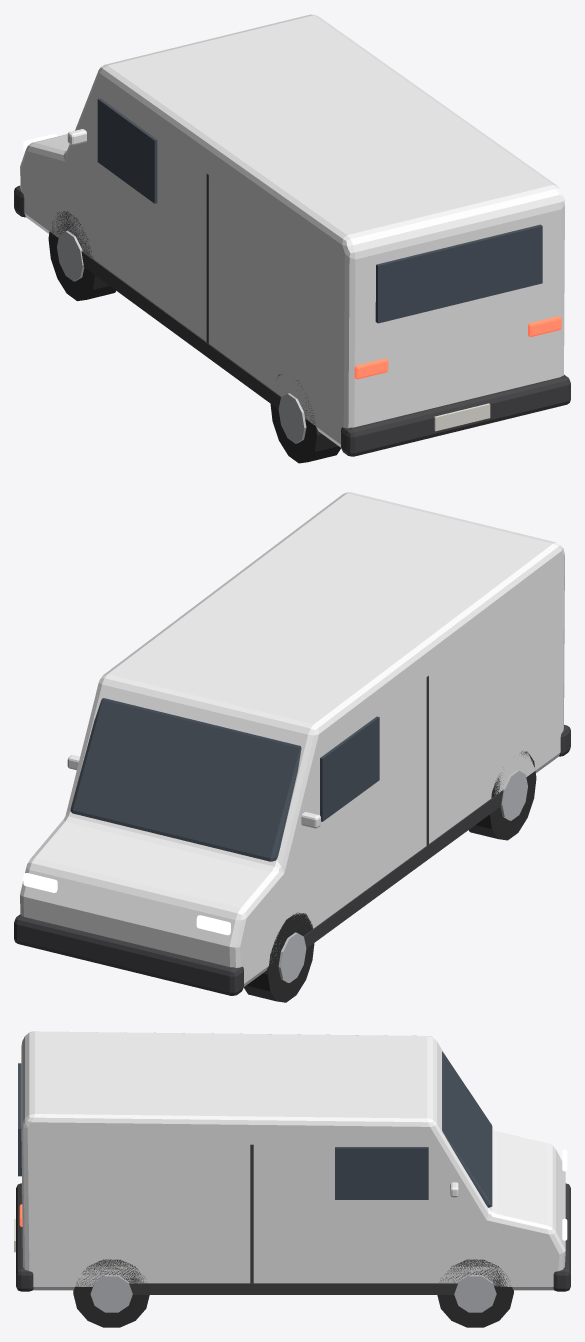
File: car_van.glb
3 renders of one model, top to bottom at view 1: azimuth 30°, elevation 25°; view 2: azimuth 150°, elevation 25°; view 3: azimuth 270°, elevation 25°, orthographic. The views are drawn at different scales.
Visible parts, largest first — view 1: car; view 2: car; view 3: car.
Part boxes in pixels (x1,y1,x2,y2): car: [14, 14, 570, 463]; car: [14, 492, 570, 1002]; car: [14, 1031, 570, 1327].
Size of the model in its own units: 2.28 by 2.24 by 5.36.
